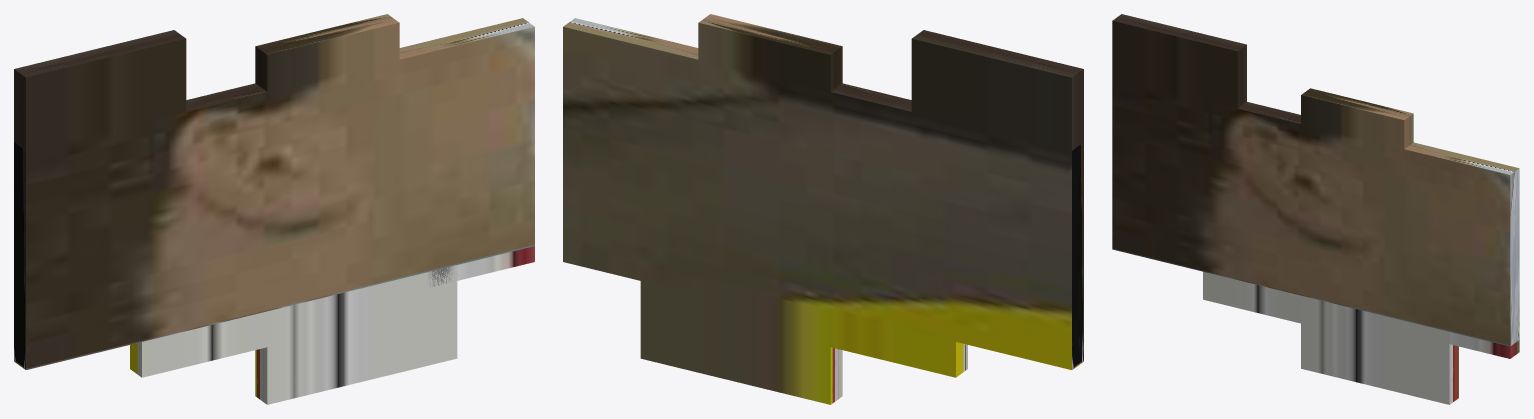
Rendered from poster2.obj.
3 renders of one model, left to right at view 1: azimuth 30°, elevation 25°; view 2: azimuth 150°, elevation 25°; view 3: azimuth 330°, elevation 25°, orthographic. The views are drawn at different scales.
Parts seen in each view (by area): view 1: PunkPoster1; view 2: PunkPoster1; view 3: PunkPoster1.
Part boxes in pixels (bbox=[...]): PunkPoster1: bbox=[14, 14, 534, 404]; PunkPoster1: bbox=[563, 14, 1083, 404]; PunkPoster1: bbox=[1112, 14, 1519, 404].
Bounding box in the file's own units: 16.21 × 11.75 × 0.6565.
1 material, 1 textured.
